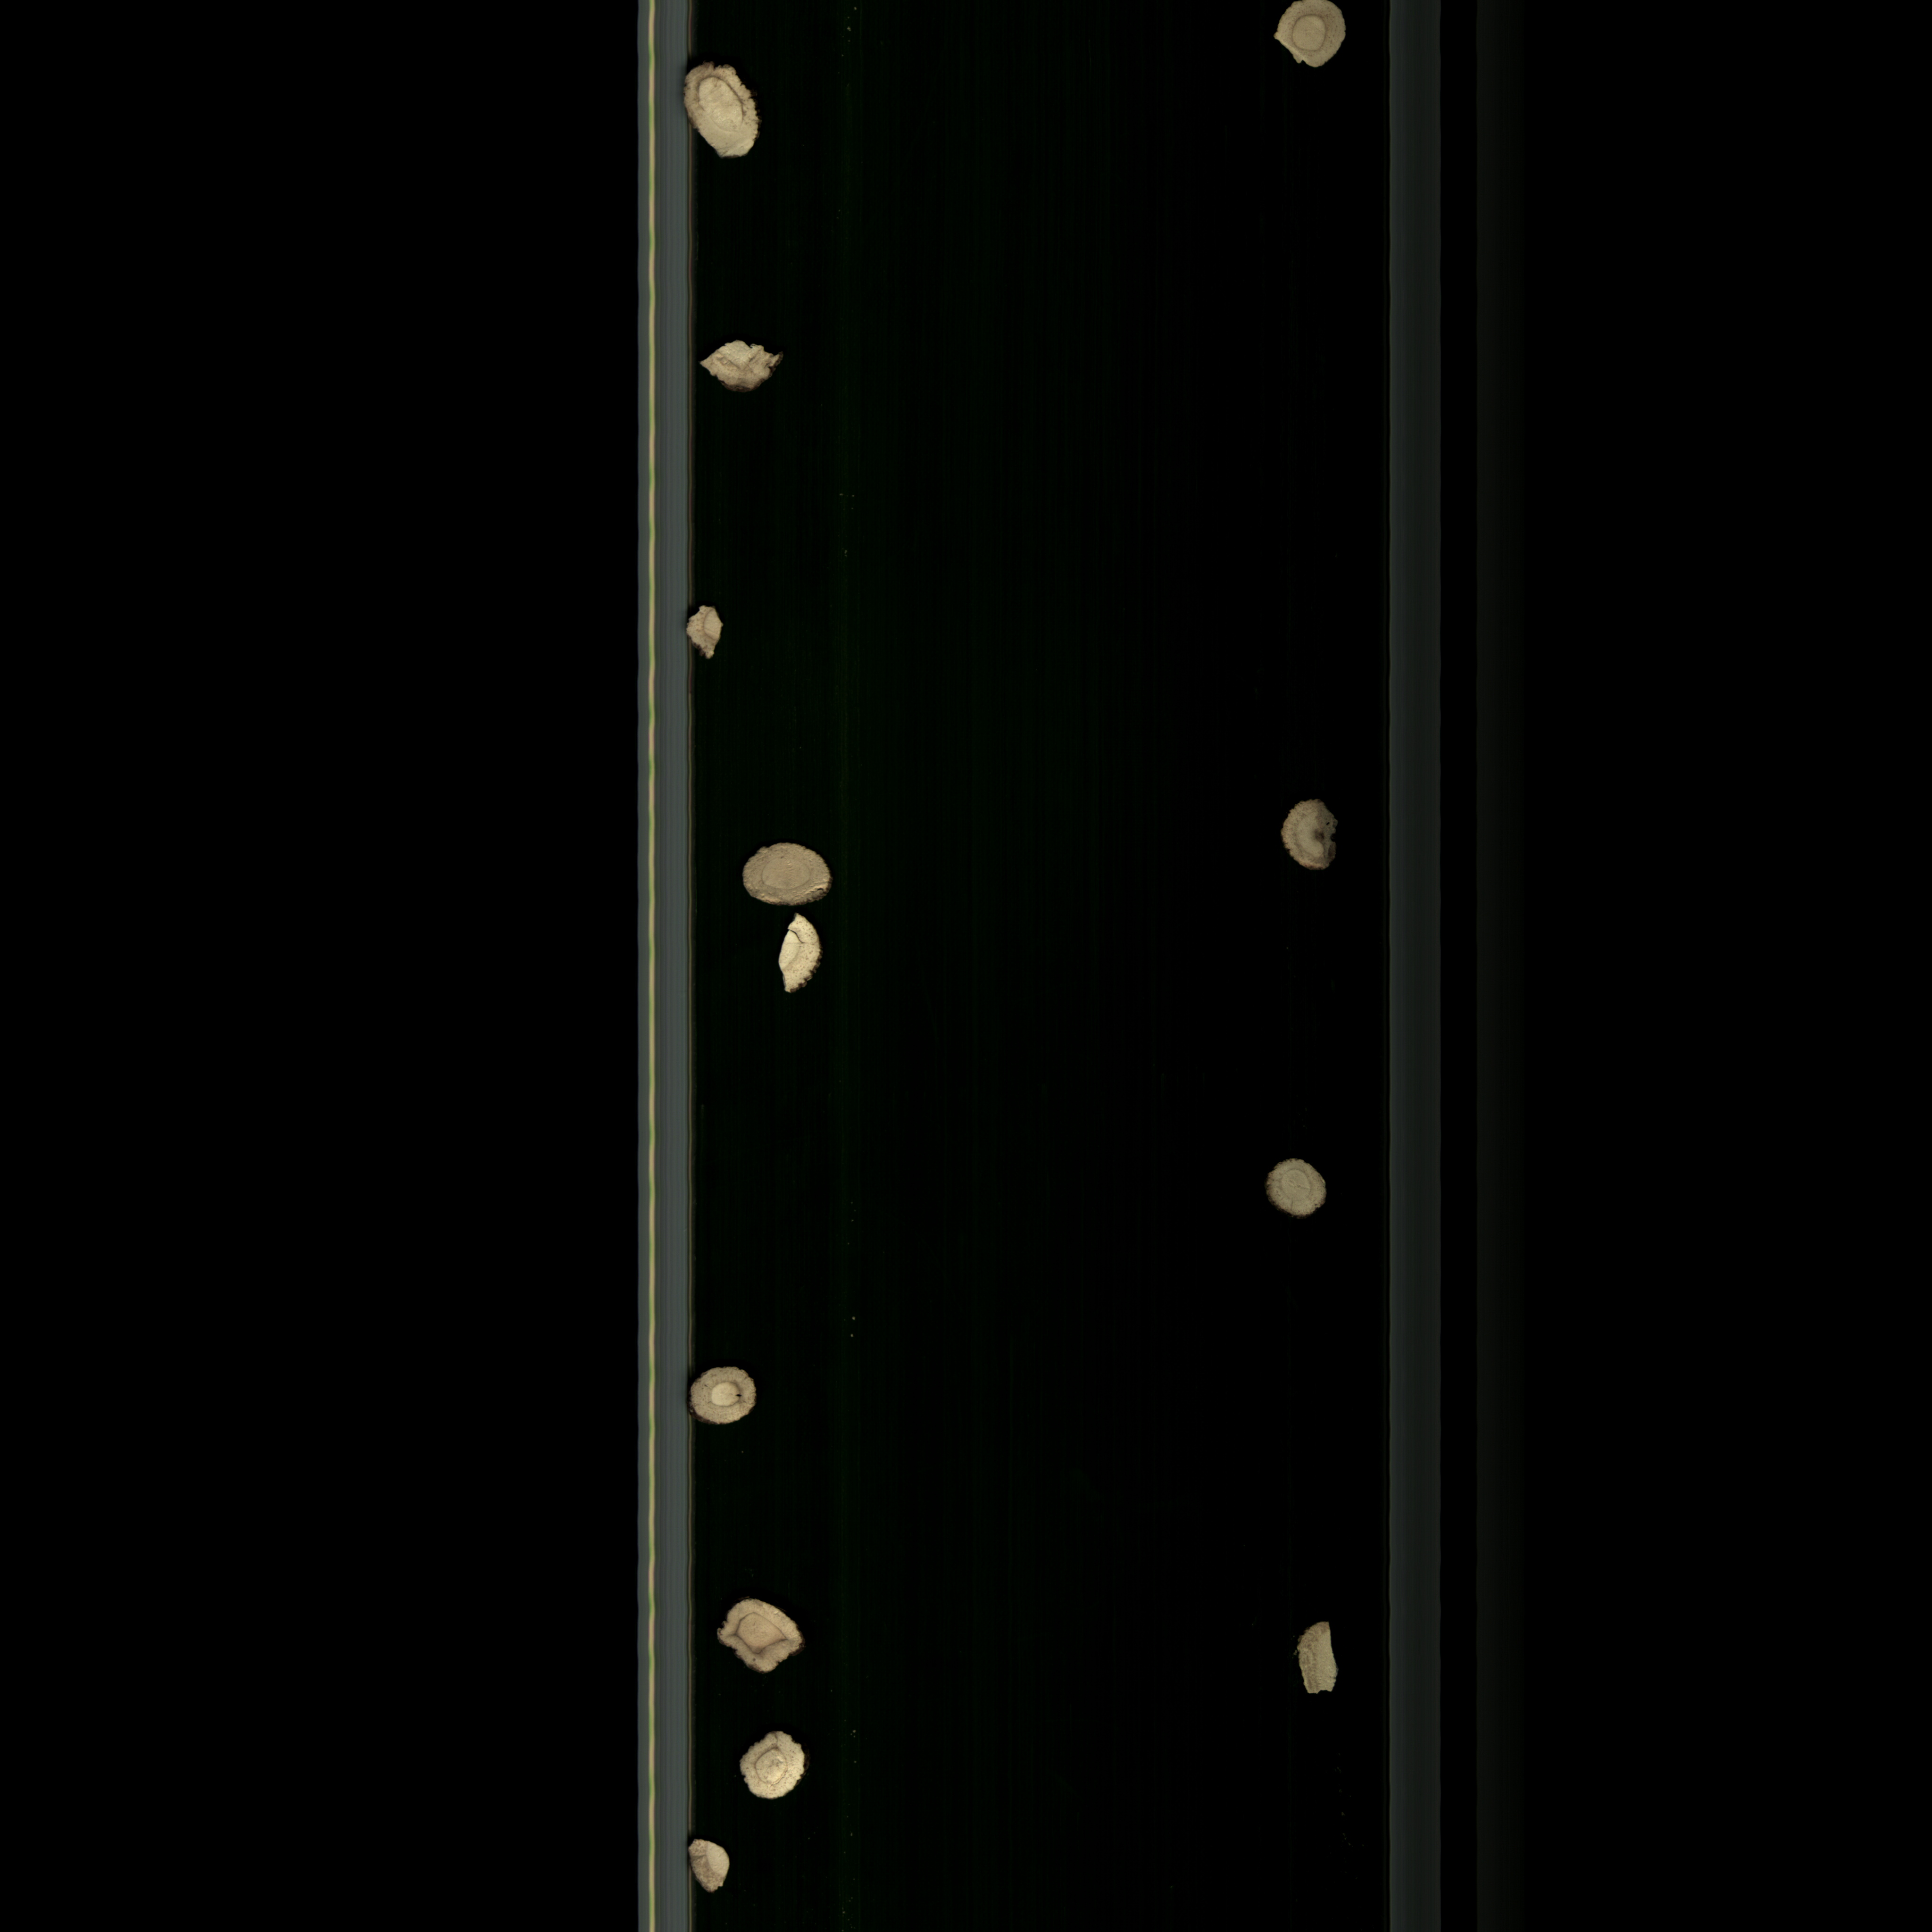debris: (1246, 2, 1352, 81), (768, 911, 842, 1001), (1290, 1617, 1350, 1709), (697, 338, 791, 389)
dreg: (681, 594, 738, 669), (686, 1831, 738, 1898)
hole: (685, 1359, 777, 1440)
moldy: (676, 53, 766, 163), (704, 1592, 817, 1677), (731, 1729, 819, 1808), (1276, 796, 1348, 885)
